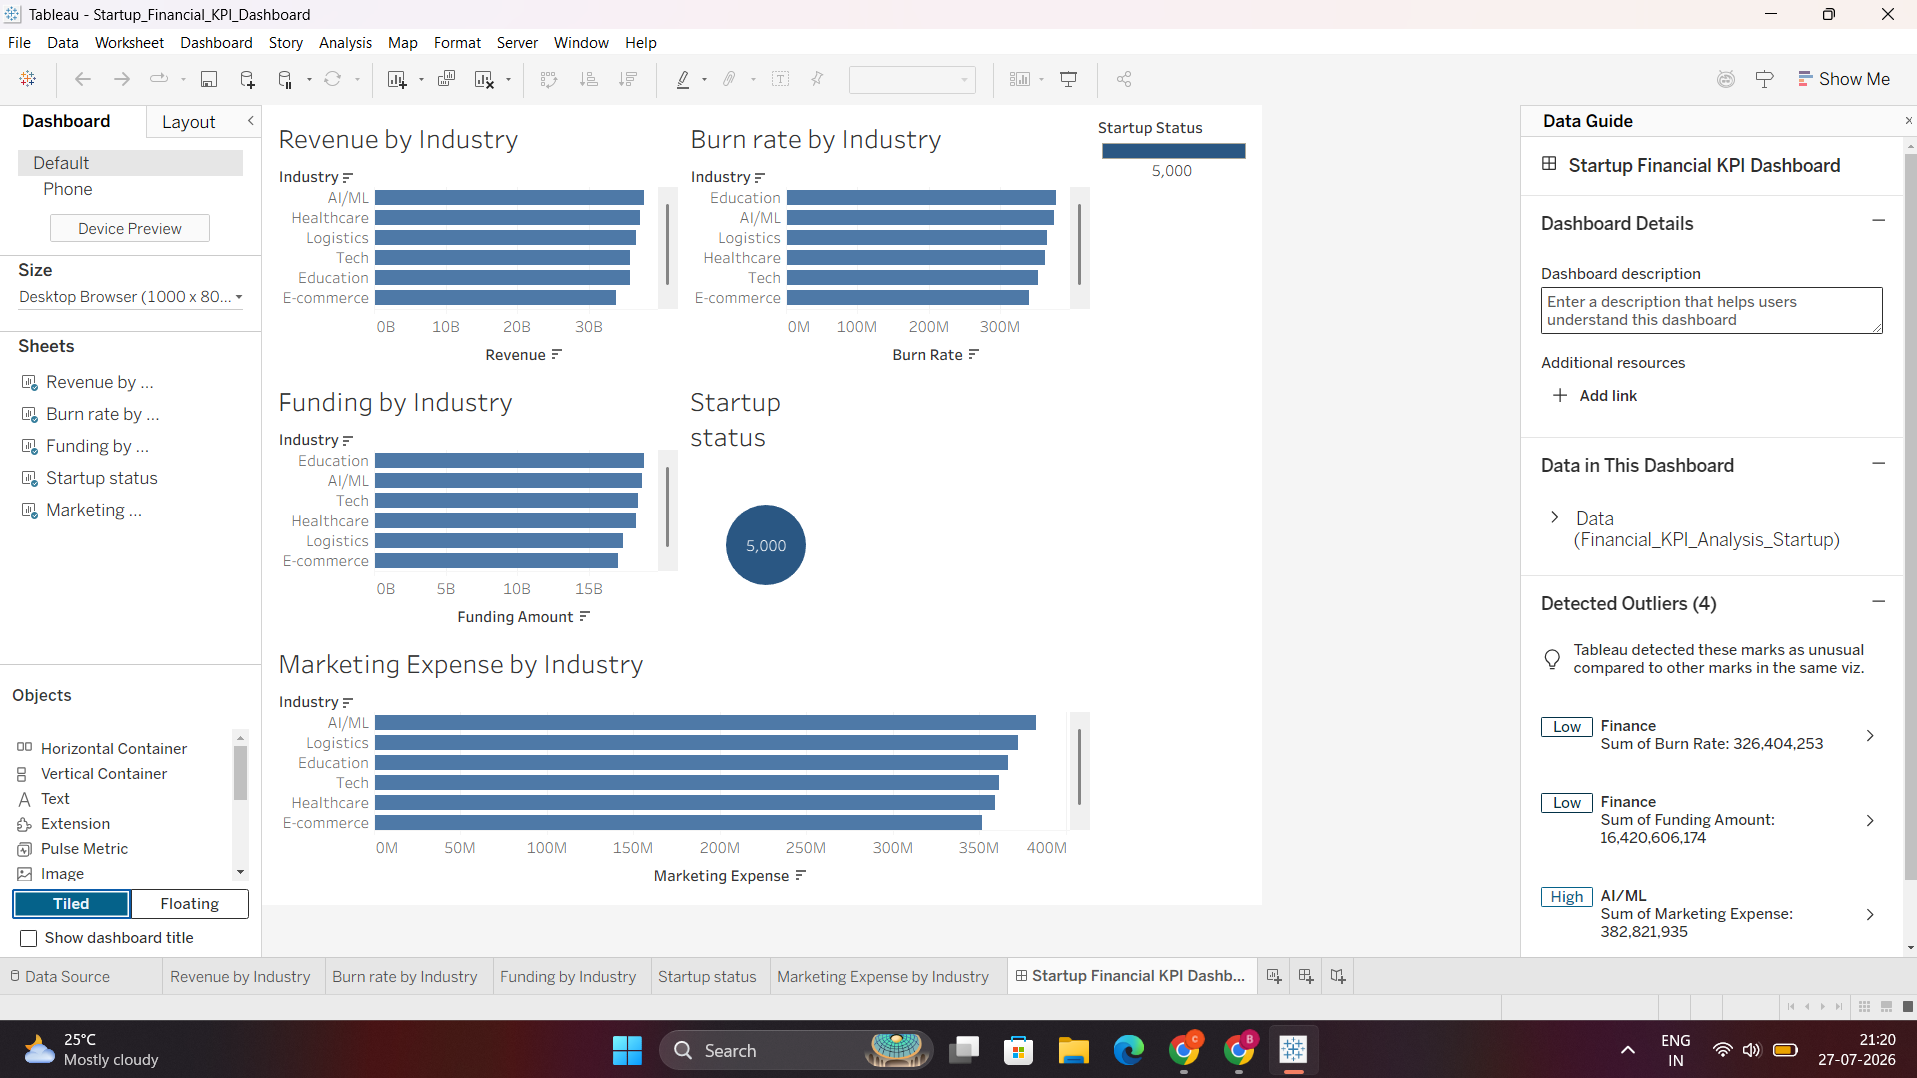

What the dashboard file says about the page in this screenshot:
{"tool":"tableau","page":{"name":"Startup Financial KPI Dashboard","canvas":[1000,800],"ordinal":0},"visuals":[{"type":"worksheet","title":"Revenue by Industry","mark":"Automatic","rows":["Industry"],"cols":["Revenue"],"box":[8,8,412,262.5]},{"type":"worksheet","title":"Burn rate by Industry","mark":"Automatic","rows":["Industry"],"cols":["Burn_Rate"],"box":[420,8,412,262.5]},{"type":"legend","title":"Startup status","param":"[federated.02kg7a607vhbb11atwxun1bmre9k].[sum:Startup_Status:qk]","box":[832,8,160,73]},{"type":"worksheet","title":"Funding by Industry","mark":"Automatic","rows":["Industry"],"cols":["Funding_Amount"],"box":[8,270.5,412,262.5]},{"type":"worksheet","title":"Startup status","mark":"Pie","box":[420,270.5,412,262.5]},{"type":"worksheet","title":"Marketing Expense by Industry","mark":"Automatic","rows":["Industry"],"cols":["Marketing_Expense"],"box":[8,533,824,259]}]}

Visuals, with their boxes on the page's 1000x800 design canvas (x1, y1, x2, y2). These are canvas units, not pixel positions in the 1917x1078 screenshot, which may show the page scaled, cropped or inside an application window:
"Revenue by Industry" worksheet: select_region(8, 8, 420, 270)
"Burn rate by Industry" worksheet: select_region(420, 8, 832, 270)
"Startup status" legend: select_region(832, 8, 992, 81)
"Funding by Industry" worksheet: select_region(8, 270, 420, 533)
"Startup status" worksheet (Pie marks): select_region(420, 270, 832, 533)
"Marketing Expense by Industry" worksheet: select_region(8, 533, 832, 792)
